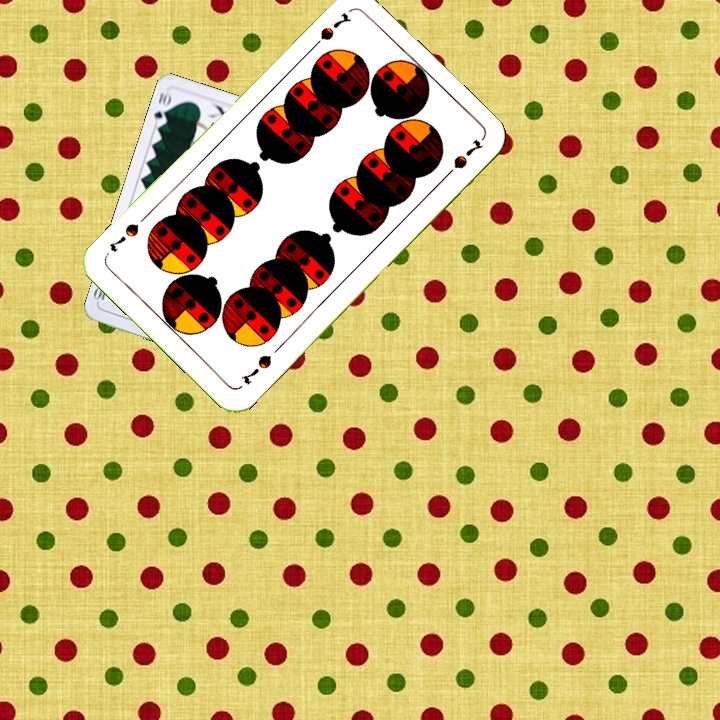G10: (150, 87, 174, 129)
S7: (306, 8, 354, 53), (236, 350, 274, 387)
